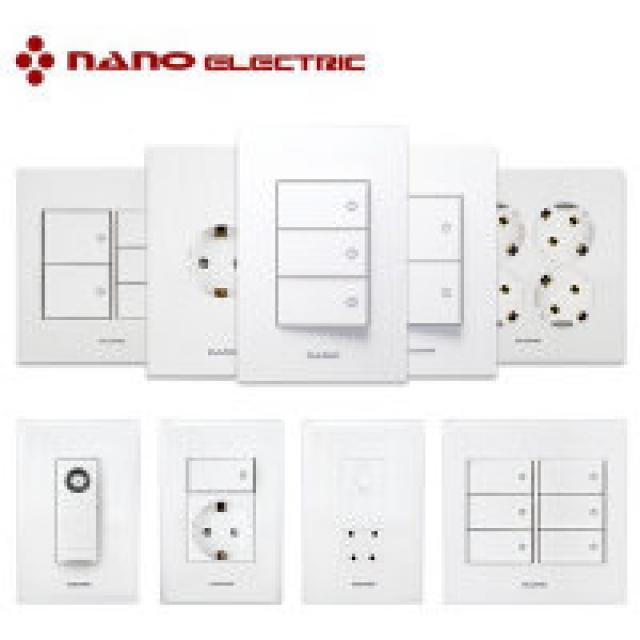typeb: (158, 406, 301, 627), (142, 138, 148, 172)
